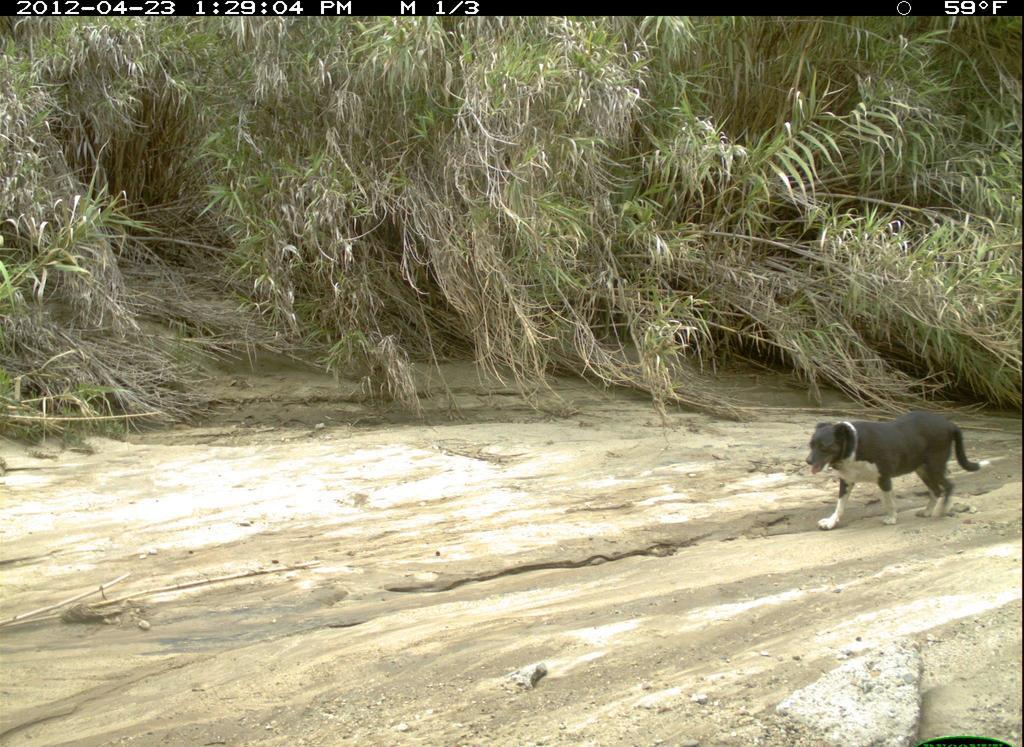dog: (804, 404, 998, 543)
